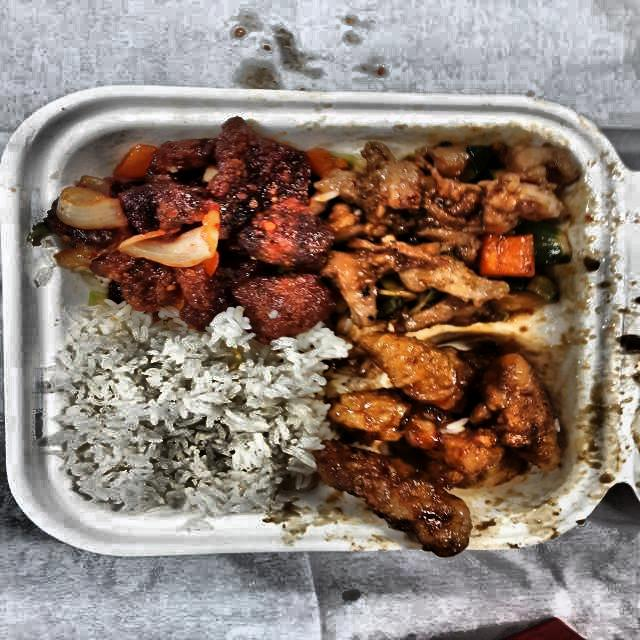Food: (49, 121, 340, 325), (313, 330, 570, 560), (322, 126, 587, 334), (51, 318, 322, 516)
